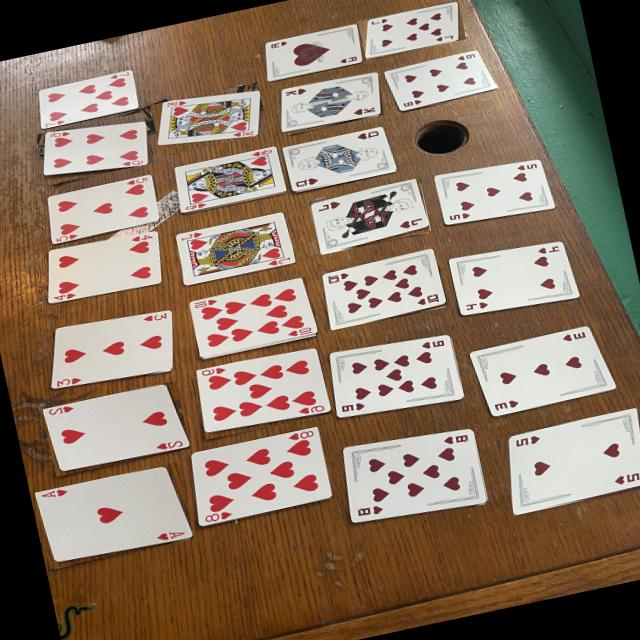10 of hearts: (189, 278, 318, 358), (322, 249, 447, 330)
2 of hearts: (509, 408, 640, 514), (43, 386, 190, 472)
3 of hearts: (469, 326, 615, 416), (469, 326, 615, 416), (51, 310, 173, 389)
4 of hearts: (449, 241, 579, 315), (47, 231, 162, 303)
5 of hearts: (434, 159, 555, 224), (47, 174, 160, 243)
6 of hearts: (385, 50, 497, 111), (43, 121, 148, 175)
7 of hearts: (38, 70, 138, 129), (365, 1, 460, 58)
8 of hearts: (191, 427, 332, 526), (343, 429, 487, 523)
9 of hearts: (196, 349, 331, 434), (330, 335, 463, 418)
Ace of hearts: (35, 468, 193, 563), (265, 24, 363, 81)
Jack of hearts: (312, 179, 429, 253), (176, 212, 295, 284)
King of hearts: (280, 73, 381, 132), (157, 91, 260, 145)
Queen of hearts: (282, 127, 397, 191), (174, 147, 285, 213)
